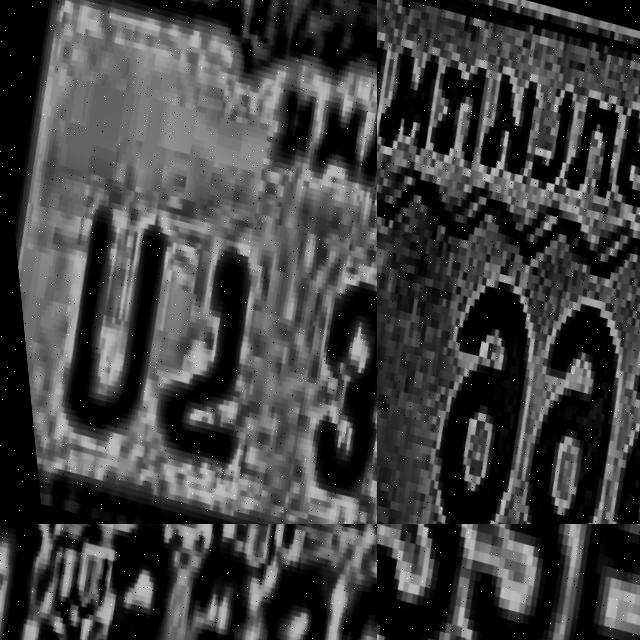license-plate: (0, 0, 377, 524), (377, 0, 640, 524), (0, 524, 377, 640), (377, 524, 640, 640)
